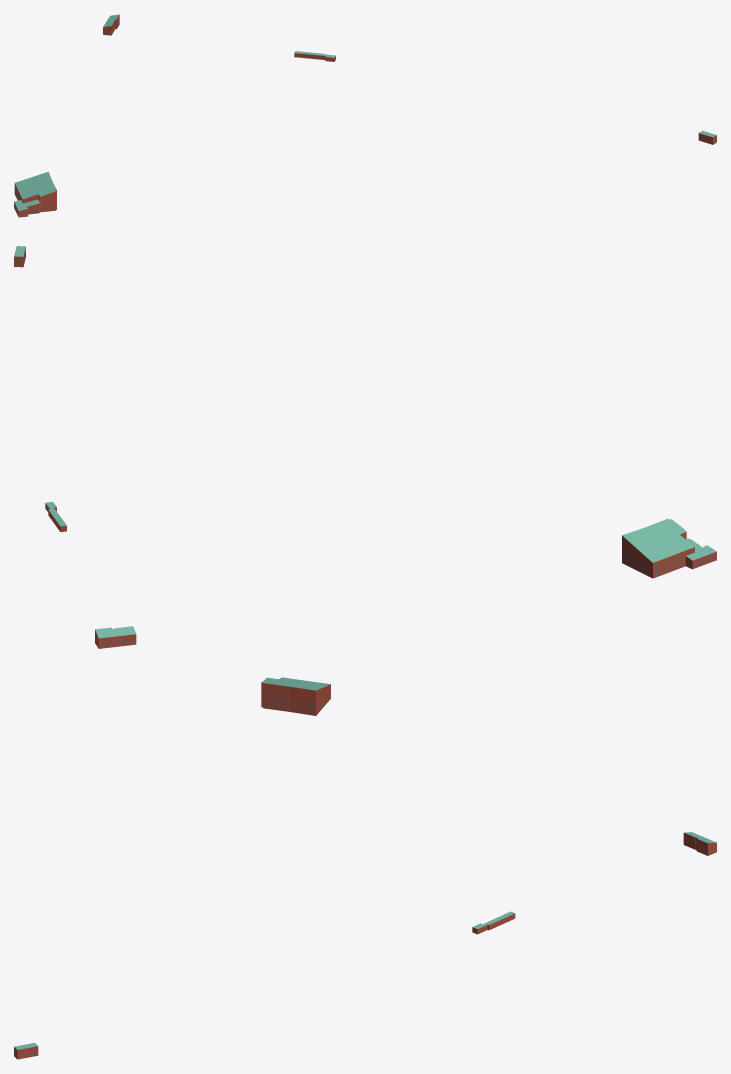
Rendered from moscow-kremlin-wall-annexes.glb.
3 views of the same model, one above another, from view 1: azimuth 30°, elevation 25°; view 2: azimuth 150°, elevation 25°; view 3: azimuth 270°, elevation 25° (orthographic). The views are drawn at different scales.
Visible parts, largest first — view 1: Brick annexes by the Kremlin gate towers; view 2: Brick annexes by the Kremlin gate towers; view 3: Brick annexes by the Kremlin gate towers.
Part boxes in pixels (x1=…): Brick annexes by the Kremlin gate towers: x1=14, y1=14, x2=716, y2=217; Brick annexes by the Kremlin gate towers: x1=14, y1=246, x2=716, y2=648; Brick annexes by the Kremlin gate towers: x1=14, y1=677, x2=716, y2=1059.
Size of the model in its own units: 504 by 16 by 400.
